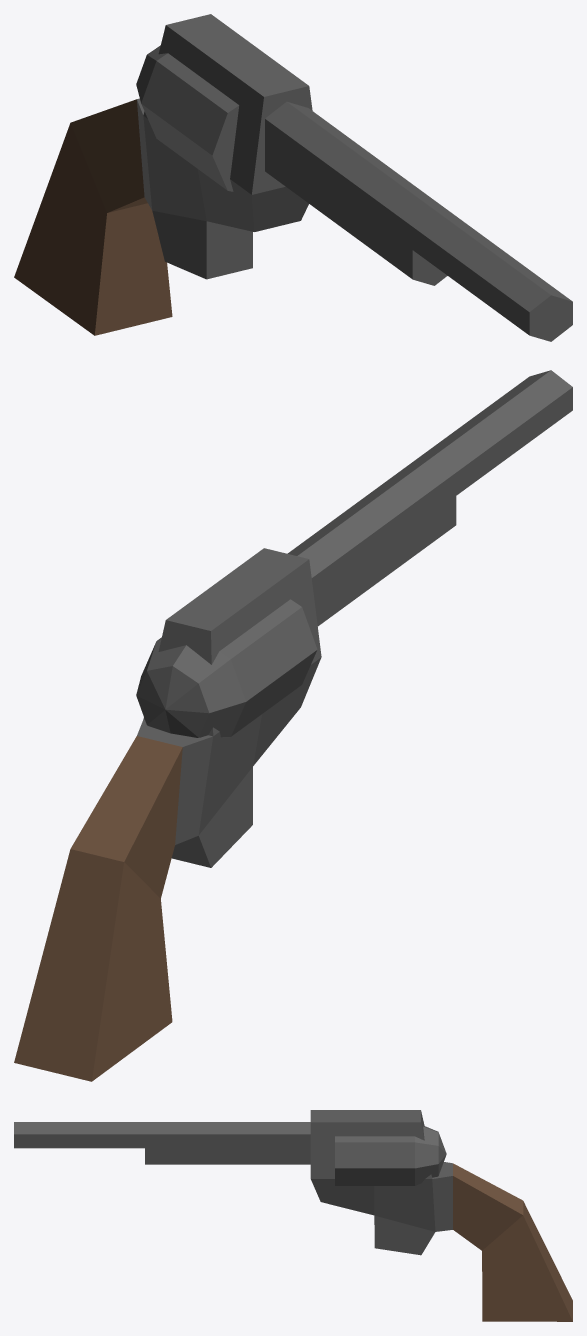
File: gun-revolver.fbx
3 renders of one model, top to bottom at view 1: azimuth 30°, elevation 25°; view 2: azimuth 150°, elevation 25°; view 3: azimuth 270°, elevation 25°, orthographic. The views are drawn at different scales.
Visible parts, largest first — view 1: gun-revolver; view 2: gun-revolver; view 3: gun-revolver.
Part boxes in pixels (x1,y1,x2,y2): gun-revolver: (14,14,572,341); gun-revolver: (14,370,572,1081); gun-revolver: (14,1110,572,1321).
Size of the model in its own units: 0.0447 by 0.1411 by 0.3667.
